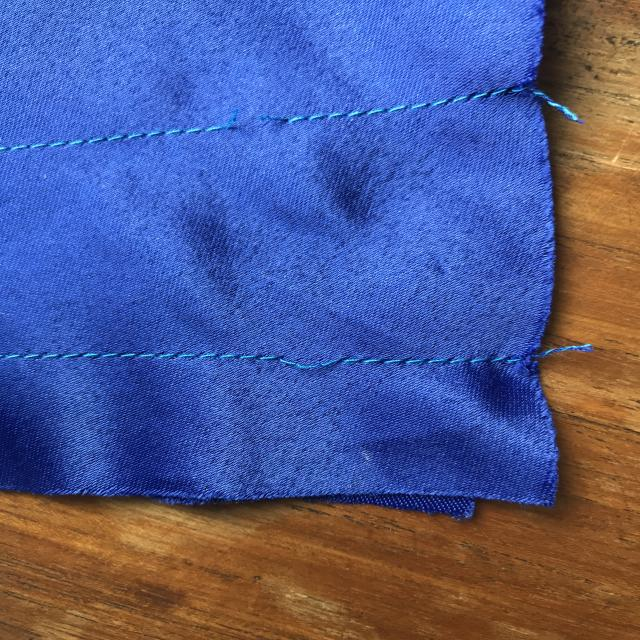broken: (199, 107, 326, 152)
good: (78, 342, 184, 383)
skip: (246, 332, 378, 385)
